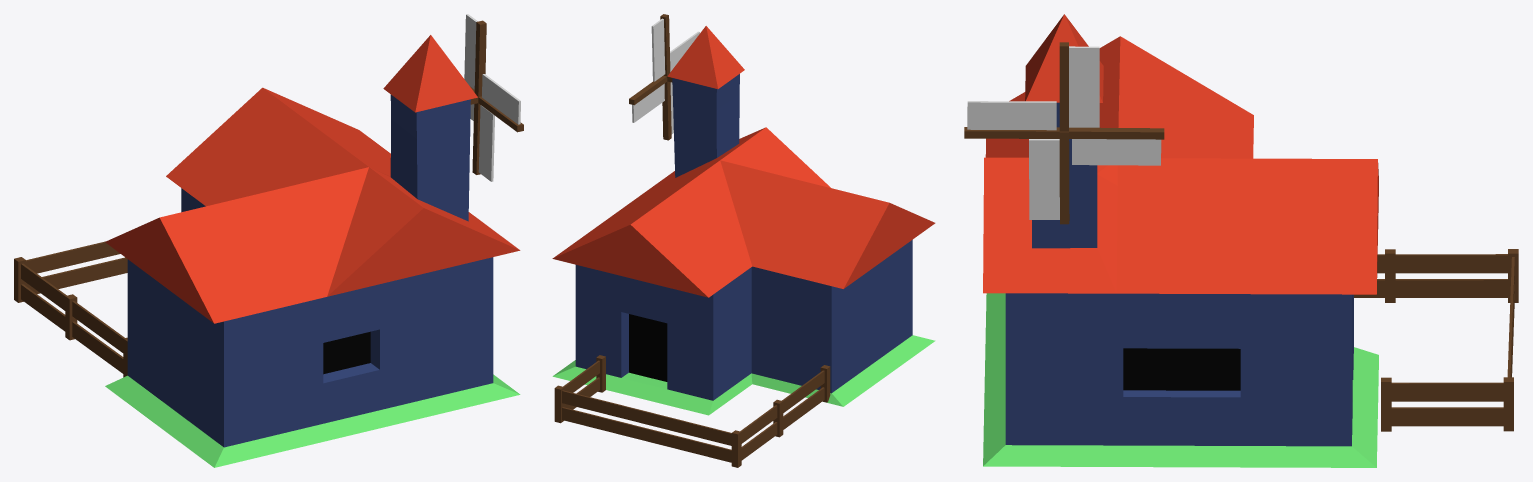
The model's file is Granja.fbx.
3 renders of one model, left to right at view 1: azimuth 30°, elevation 25°; view 2: azimuth 150°, elevation 25°; view 3: azimuth 270°, elevation 25°, orthographic. The views are drawn at different scales.
Parts seen in each view (by area): view 1: Granja; view 2: Granja; view 3: Granja.
Part boxes in pixels (left/top/right/bottom): Granja: left=14, top=14, right=523, bottom=467; Granja: left=552, top=14, right=935, bottom=467; Granja: left=964, top=14, right=1518, bottom=467.
Size of the model in its own units: 98.88 by 107 by 128.
